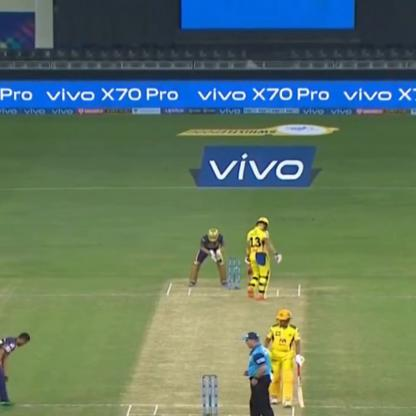pitch: (120, 270, 309, 416)
